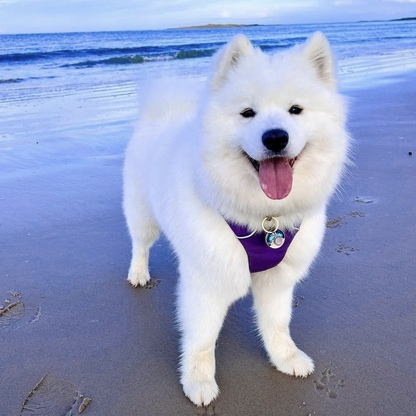samoyed: (114, 20, 361, 416)
